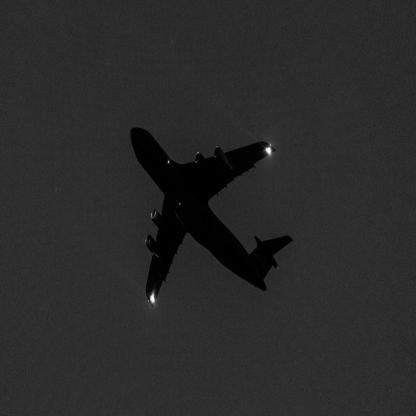C5: (131, 127, 295, 309)
